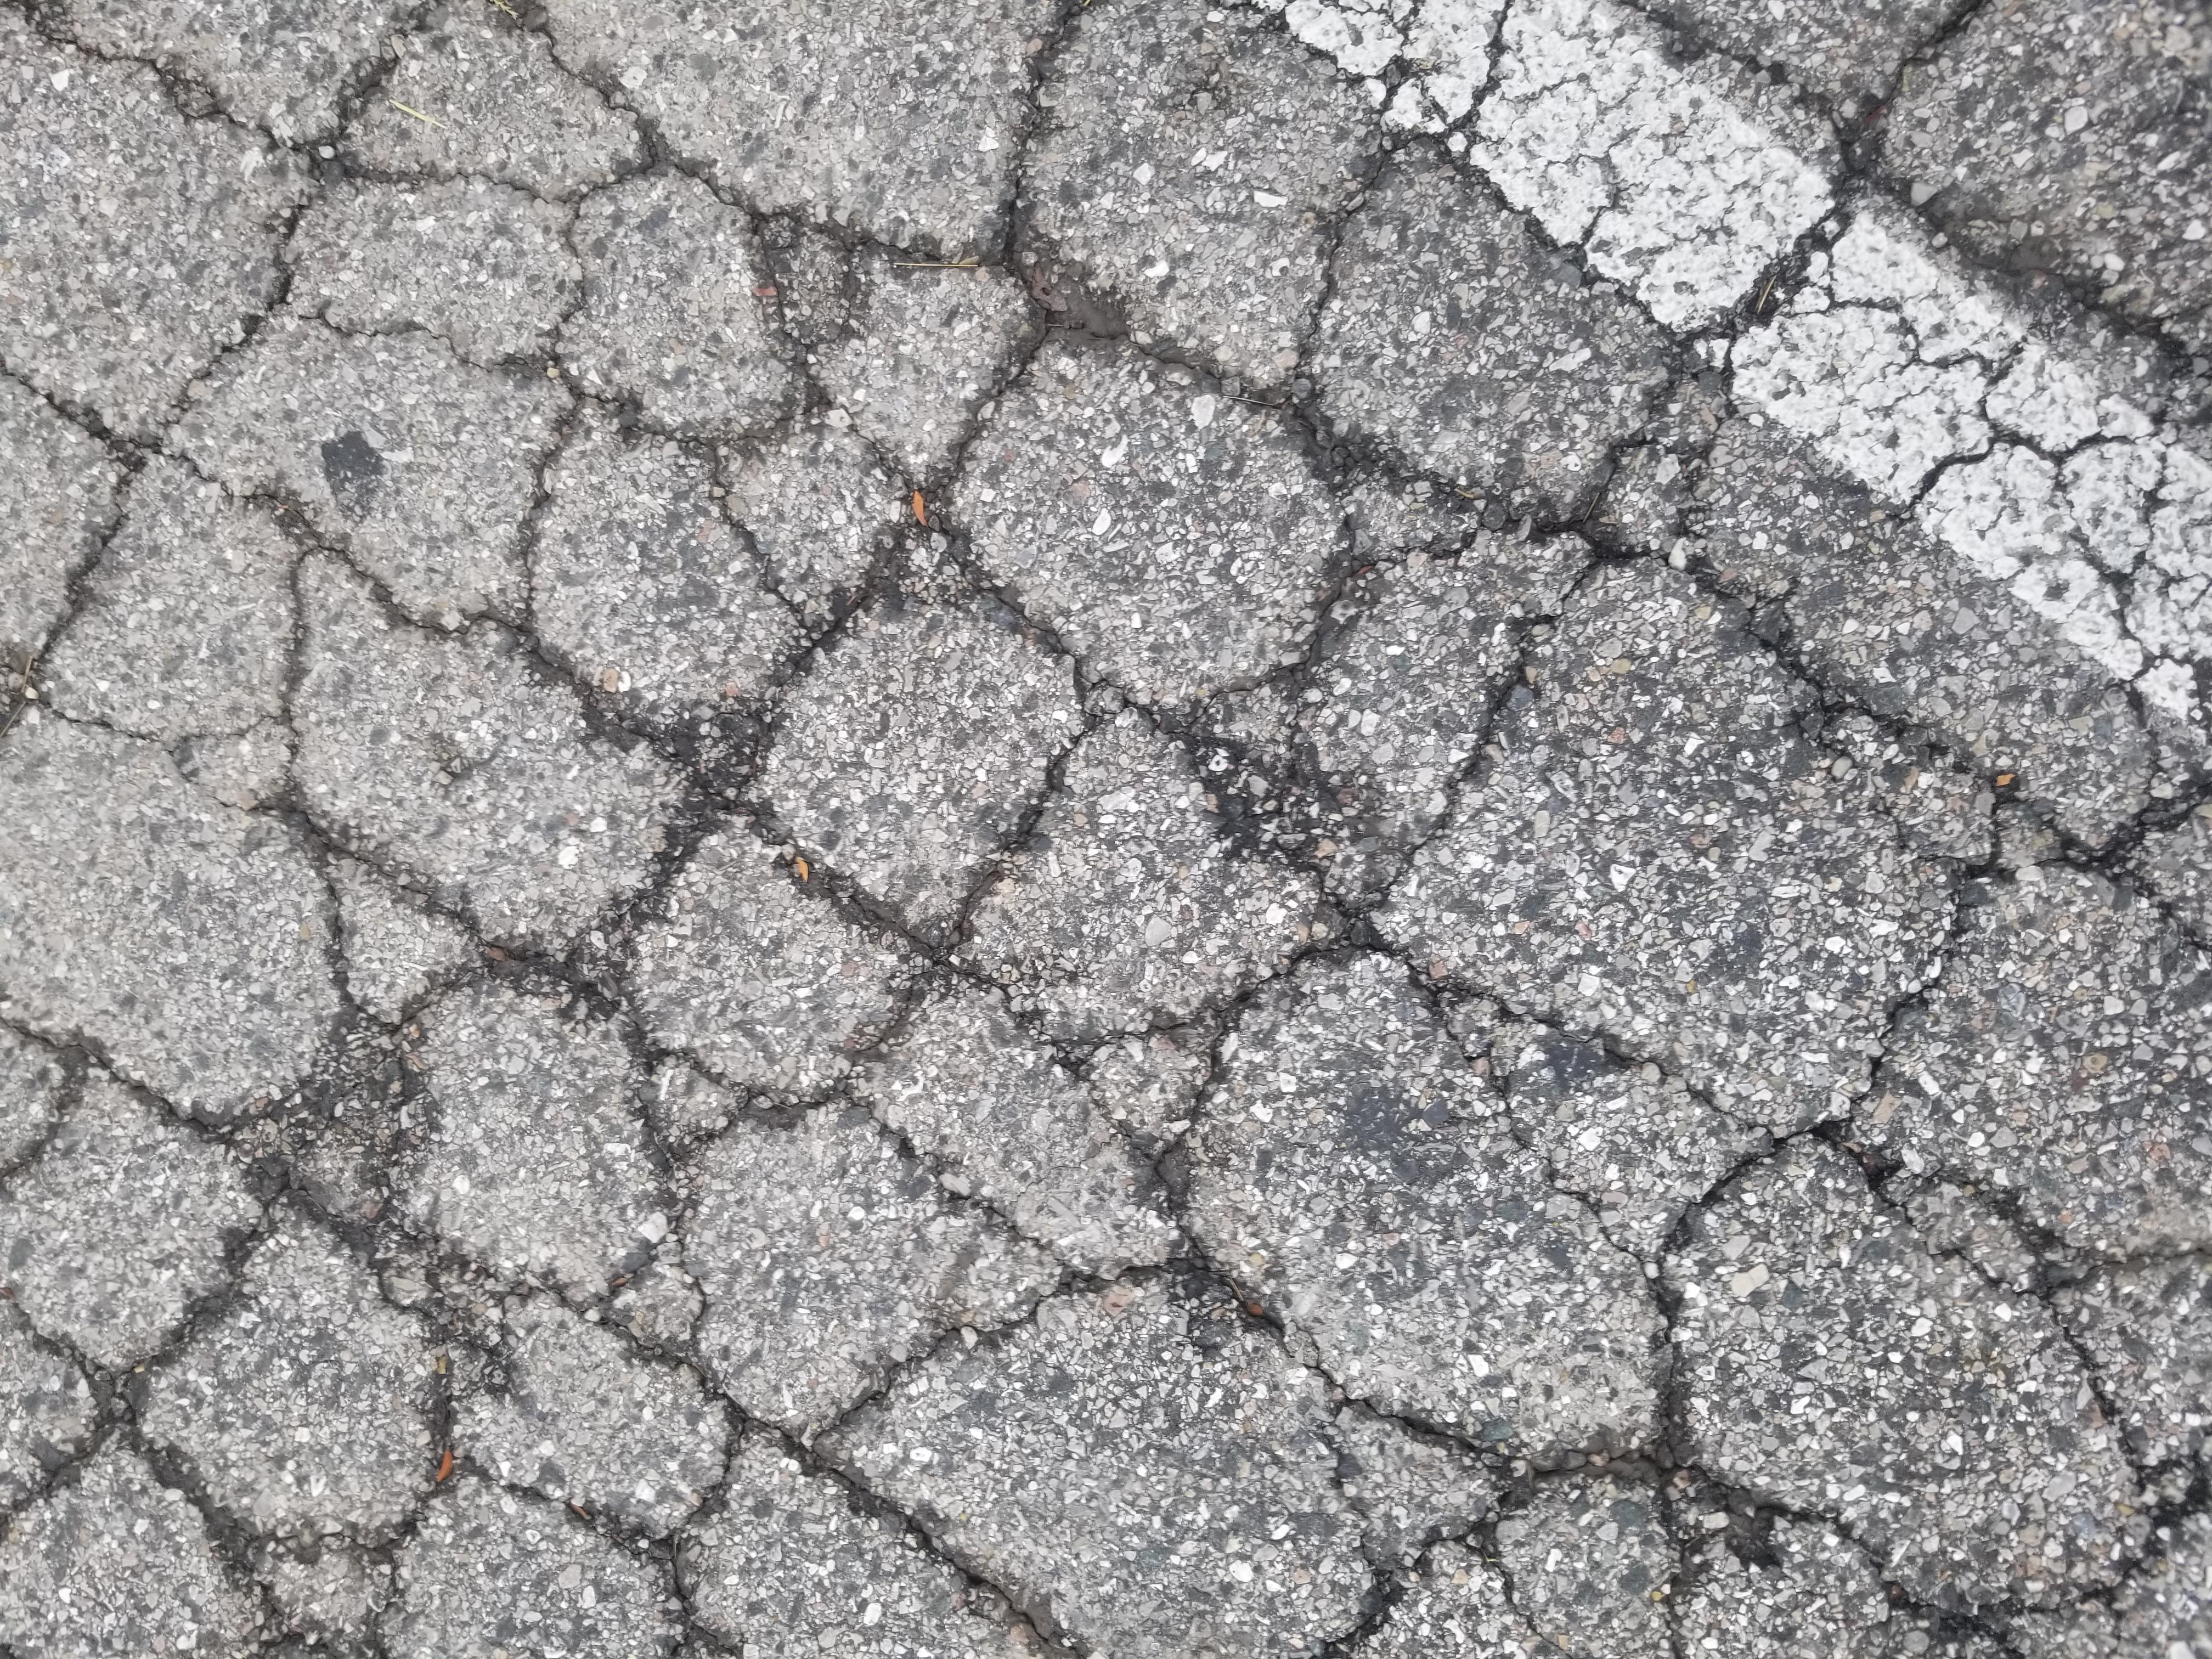alligator-crack: (14, 3, 2205, 1659)
